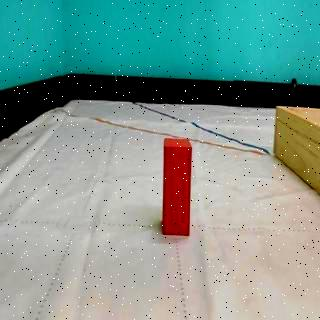redbox: (163, 138, 191, 235)
